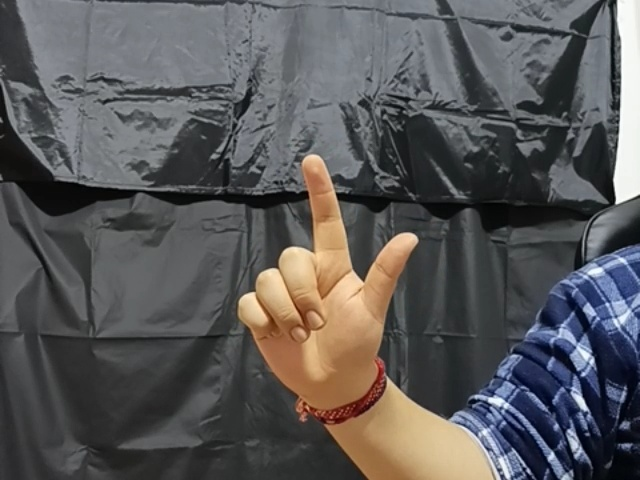L: (232, 154, 422, 387)
